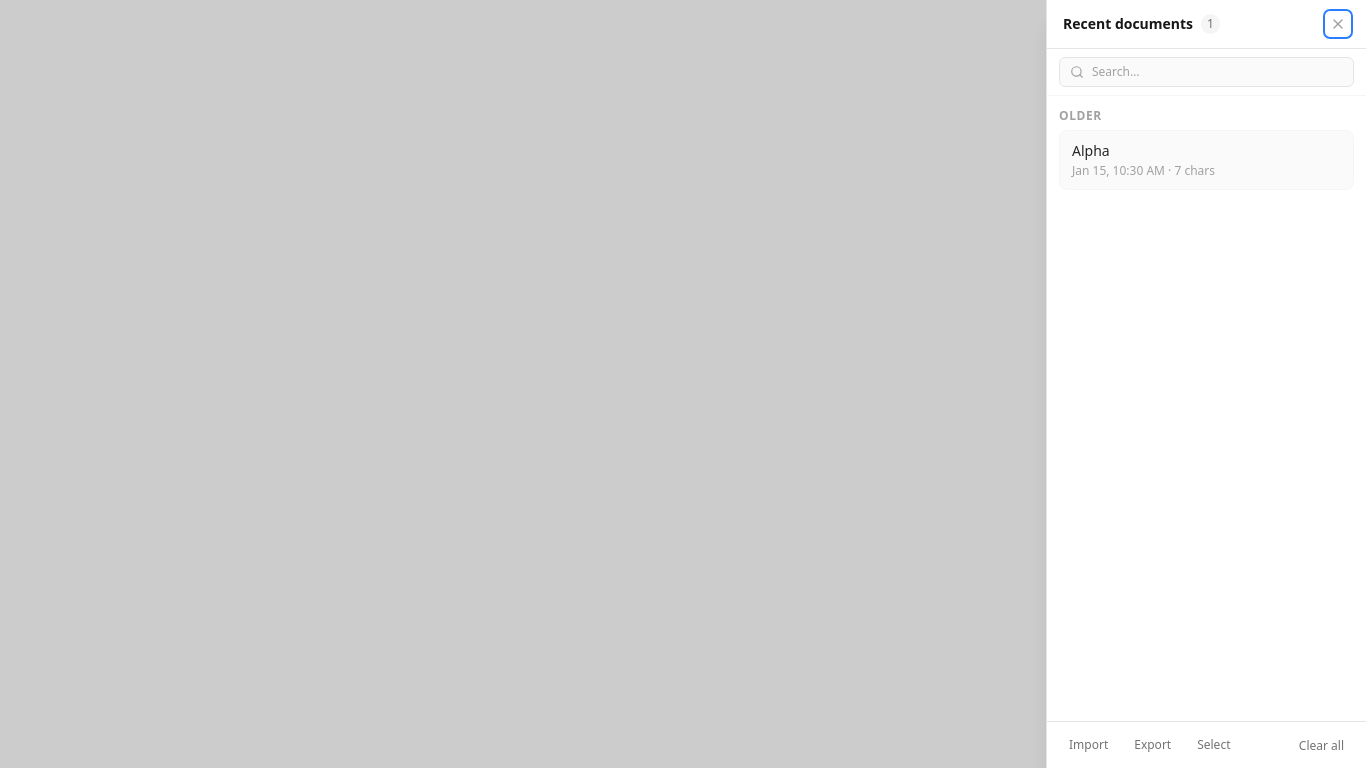
Scenario: HistorySidebar — ti() aria-label interpolation › interpolates entry title into selectEntryLabel aria-label in select mode
The image size is (1366, 768).
Click the button with aria-label "enter bulk selection mode": click(1214, 745) [1187,733,1240,757]
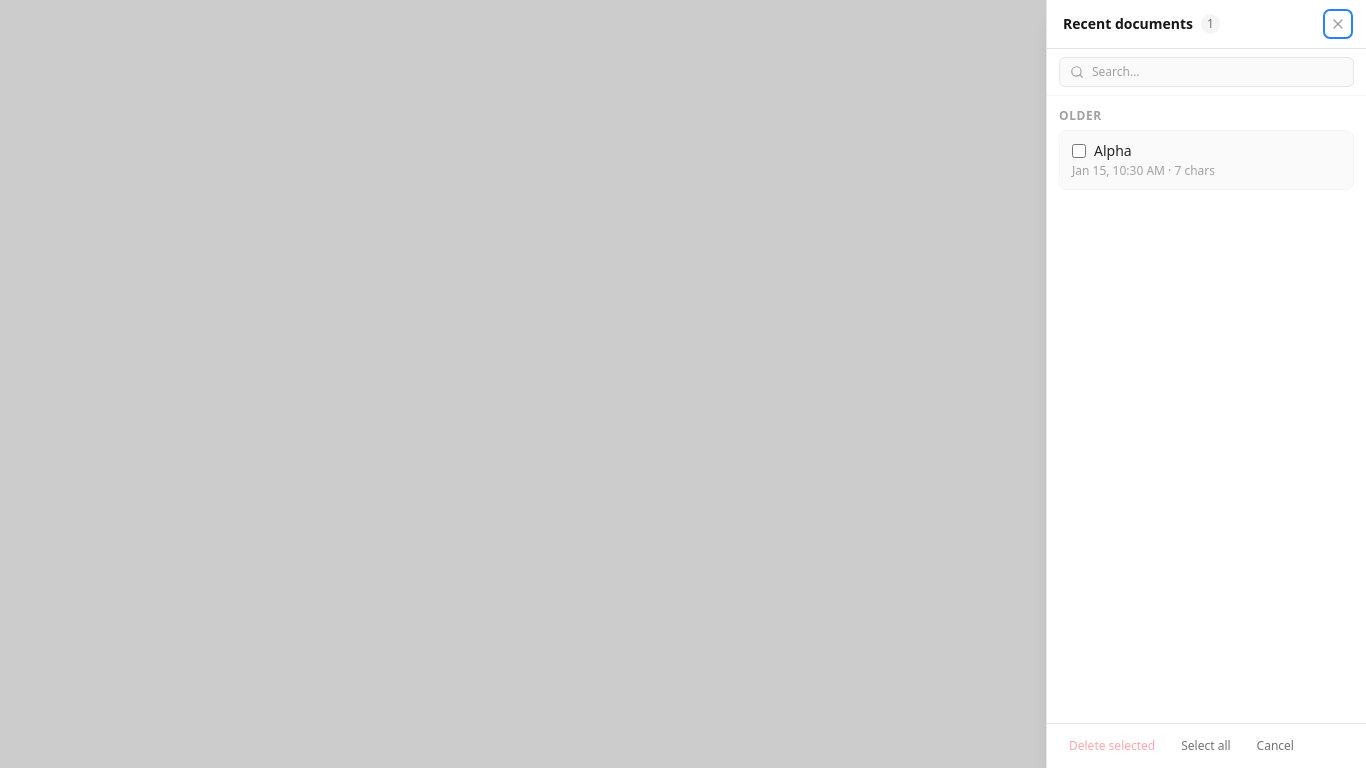
Check: the checkbox named "Select \"Alpha\"" is shown, box [1072,144,1086,158]
